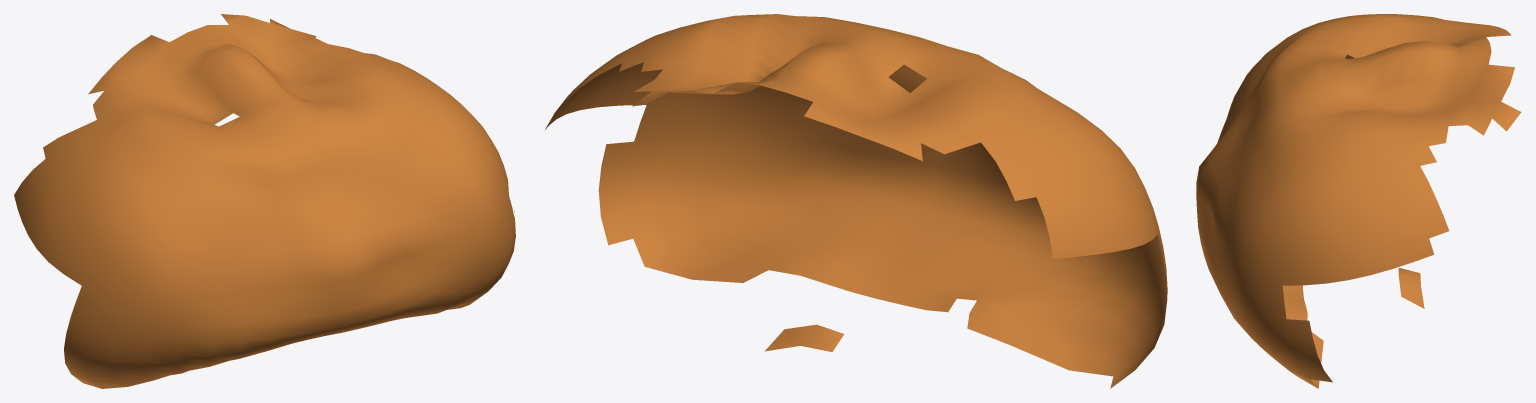
The model's file is head_frons.obj.
3 views of the same model, side by side, from view 1: azimuth 30°, elevation 25°; view 2: azimuth 150°, elevation 25°; view 3: azimuth 270°, elevation 25° (orthographic). The views are drawn at different scales.
Bounding box in the file's own units: 0.0868 × 0.0468 × 0.0547.
